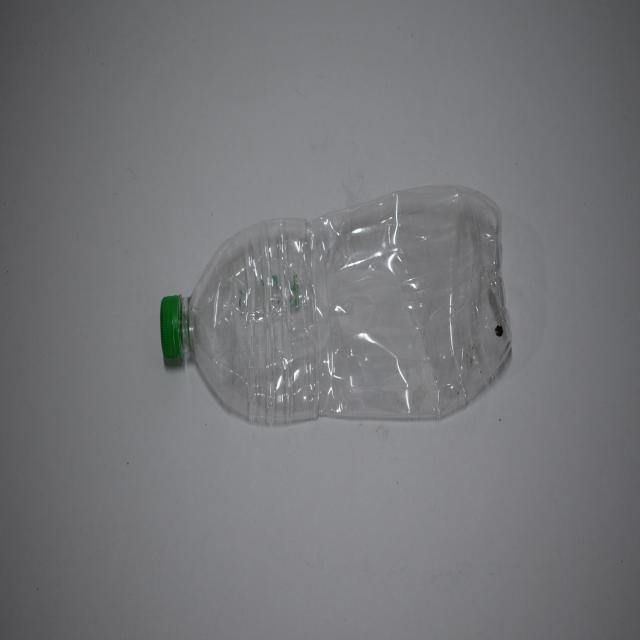bottle: (158, 170, 524, 444)
